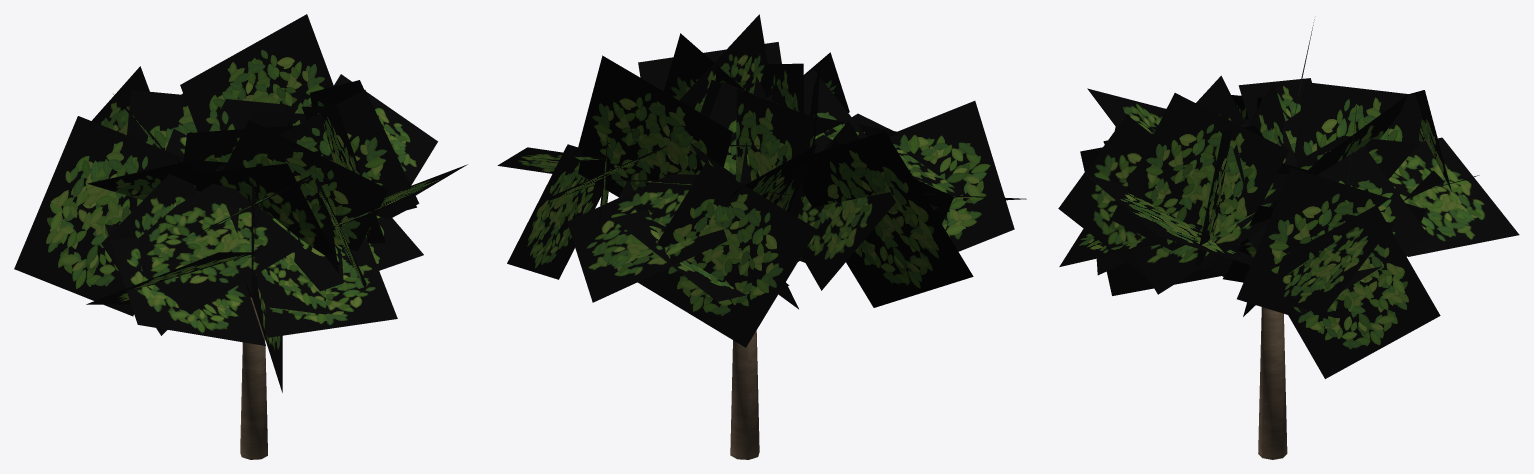
The model's file is tree_rain2.glb.
3 renders of one model, left to right at view 1: azimuth 30°, elevation 25°; view 2: azimuth 150°, elevation 25°; view 3: azimuth 270°, elevation 25°, orthographic. The views are drawn at different scales.
Visible parts, largest first — view 1: Tree2; view 2: Tree2; view 3: Tree2.
Boxes of the visible parts, box(x1,y1,x2,y2) form: Tree2: box(14, 14, 467, 459); Tree2: box(497, 14, 1026, 459); Tree2: box(1058, 19, 1519, 459).
Size of the model in its own units: 10.51 by 8.85 by 9.48.
Materials: 2 (2 with a texture image).
